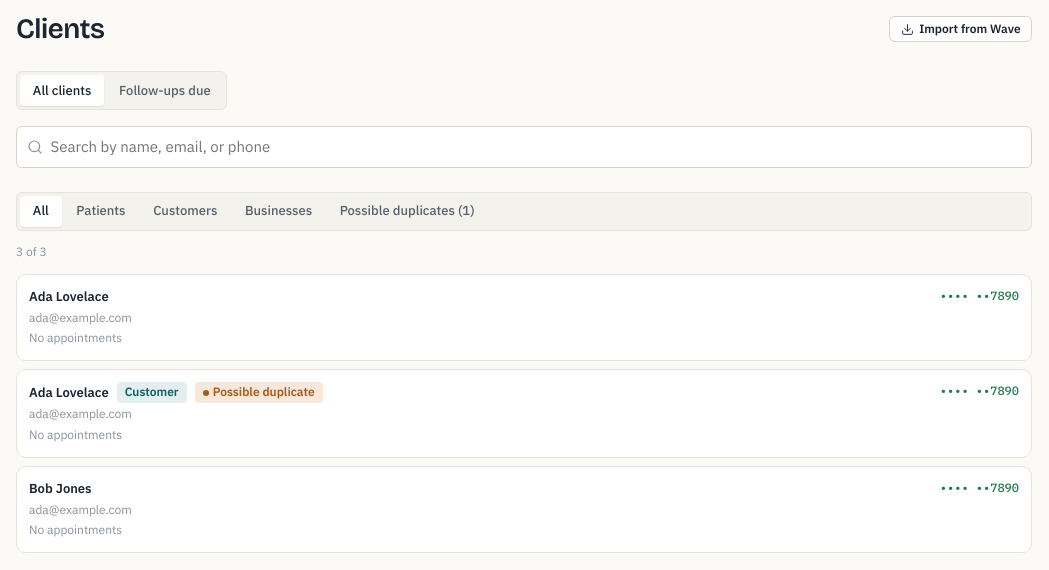
Patients › flags possible duplicates and filters to them
Expected: the text "Bob Jones" is shown, [29,480,92,497]
Expected: the text "Possible duplicate" is shown, [195,382,323,403]
Click the button "Possible duplicates (1)" at (407, 211), box [327,196,487,227]
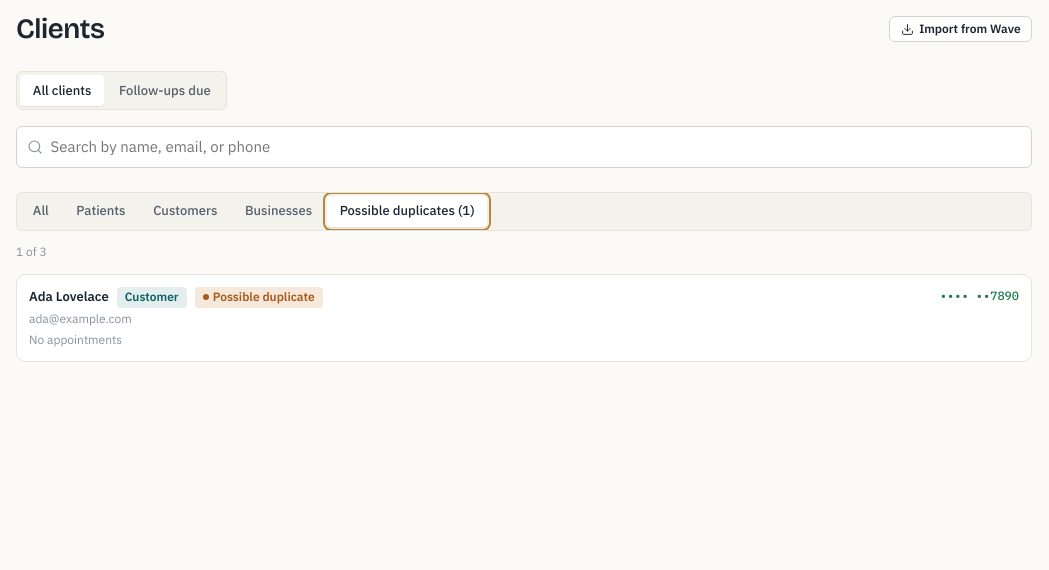
Expected: the text "1 of 3" is shown, [16,244,47,259]
Expected: the button "Bob Jones" is gone
